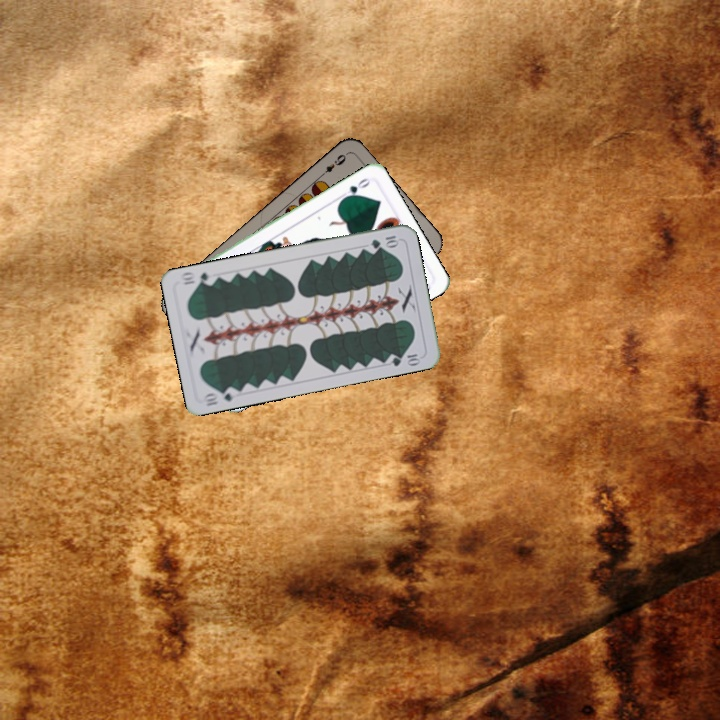E9: (316, 149, 349, 180)
G10: (200, 383, 239, 408), (367, 231, 401, 251)
GO: (336, 174, 373, 203)
